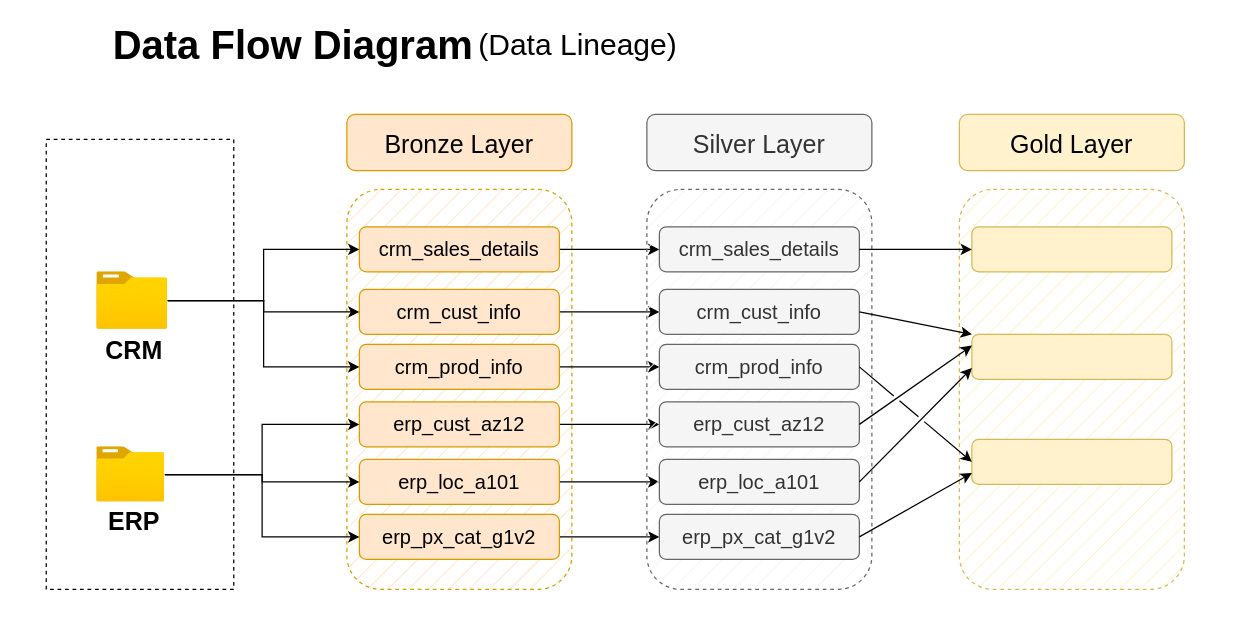
This 1243x623 diagram has some shape labels left out. The box of each missing label's shape, as (x1, y1, x2, y2) in pixels:
dim_customers: (971, 333, 1172, 379)
dim_products: (971, 438, 1172, 484)
fact_sales: (971, 226, 1172, 272)
Sources: (71, 114, 209, 151)
